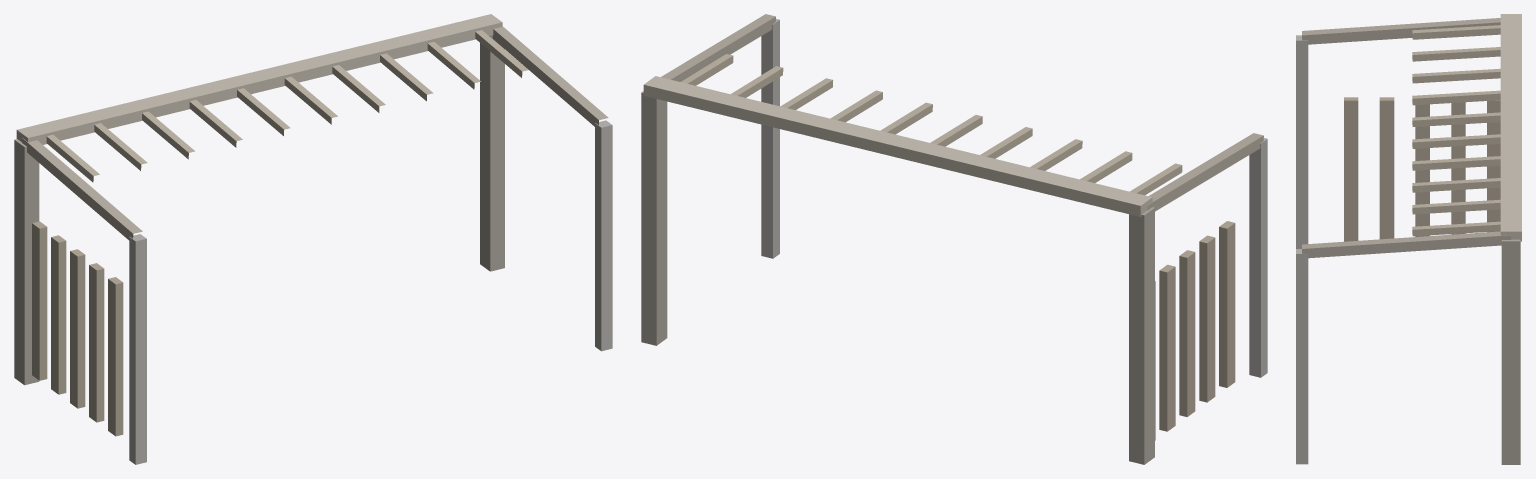
Rendered from studioLouver.glb.
The picture shows the model from 3 angles, left to right: view 1: azimuth 30°, elevation 25°; view 2: azimuth 150°, elevation 25°; view 3: azimuth 270°, elevation 25°; orthographic projection. The views are drawn at different scales.
Visible parts, largest first — view 1: studioLouver; view 2: studioLouver; view 3: studioLouver.
Part boxes in pixels (<box>): studioLouver: <box>14,14,612,464</box>; studioLouver: <box>641,14,1267,464</box>; studioLouver: <box>1296,14,1521,464</box>.
Bounding box in the file's own units: 13.72 × 6.74 × 5.94.
